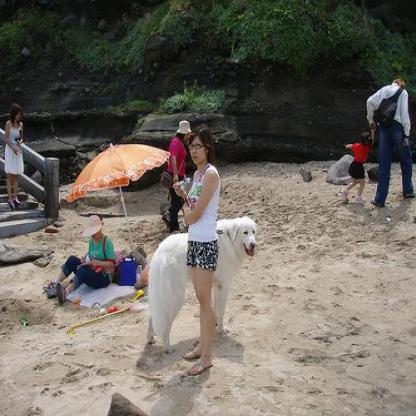Great_Pyrenees: (148, 216, 256, 350)
